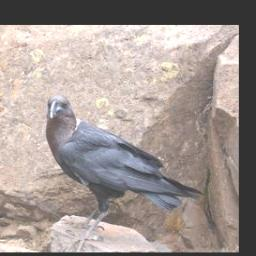Crow: (46, 93, 205, 252)
